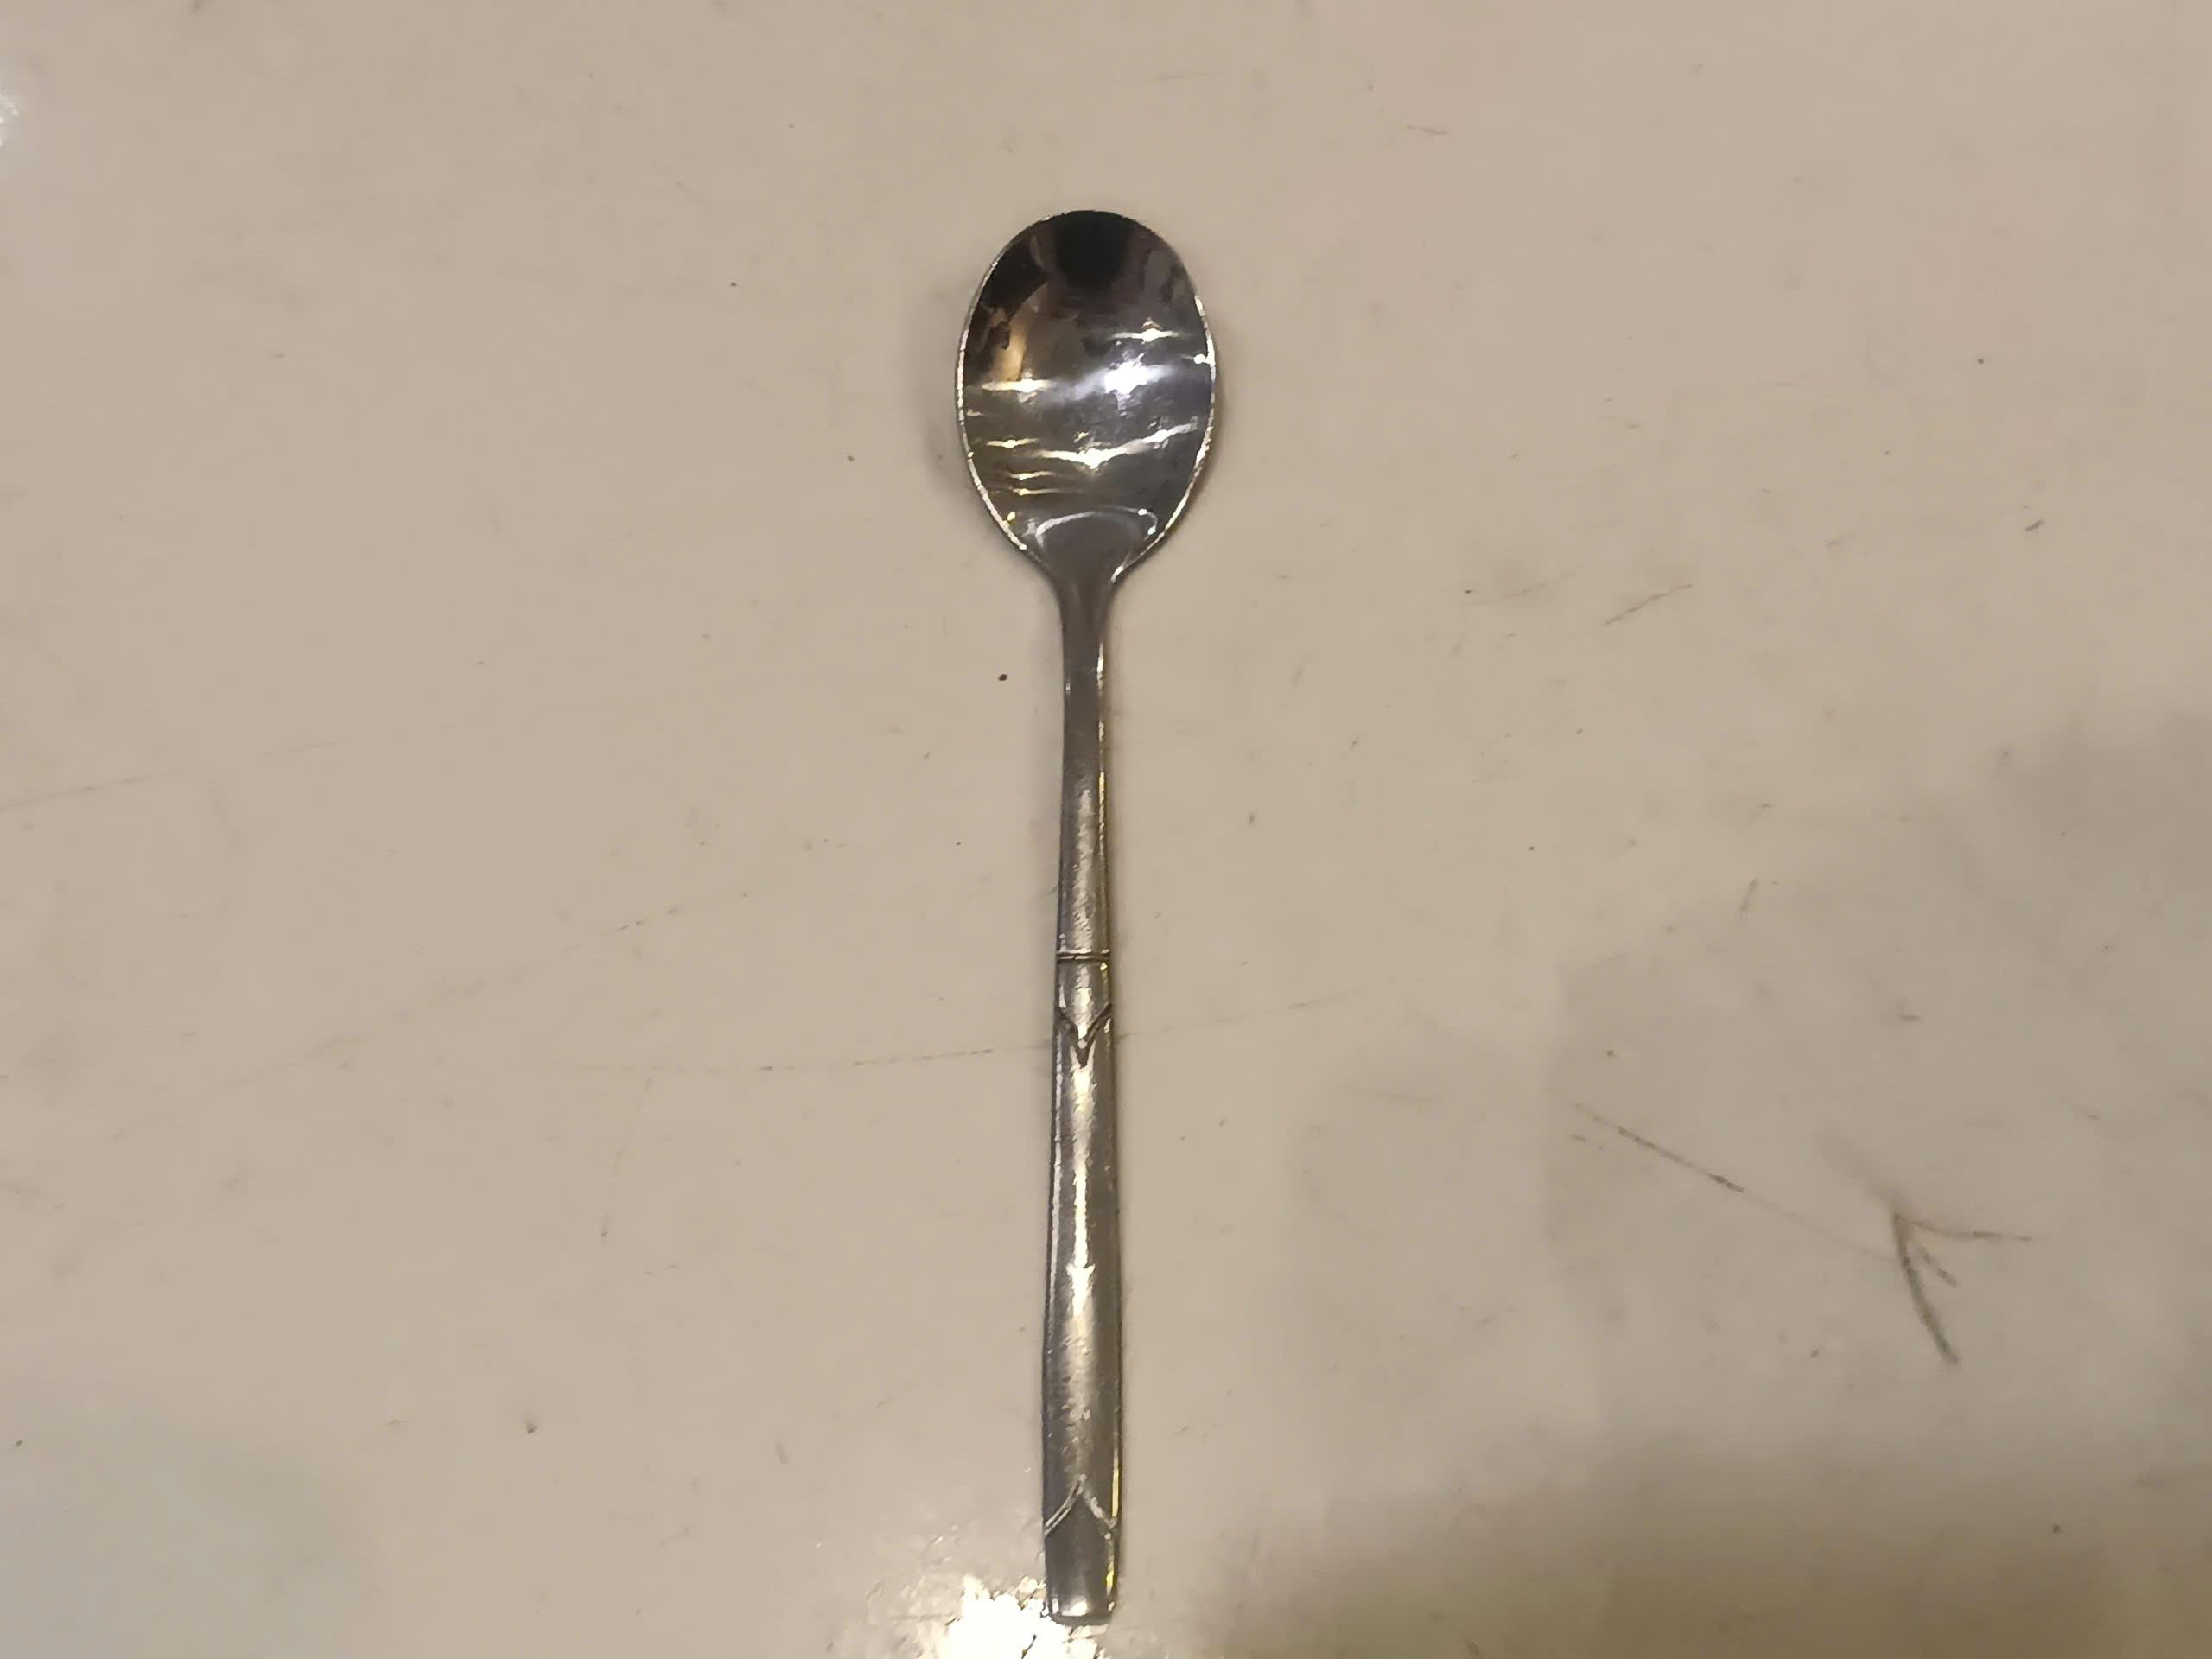Vo co: (951, 207, 1216, 1628)
